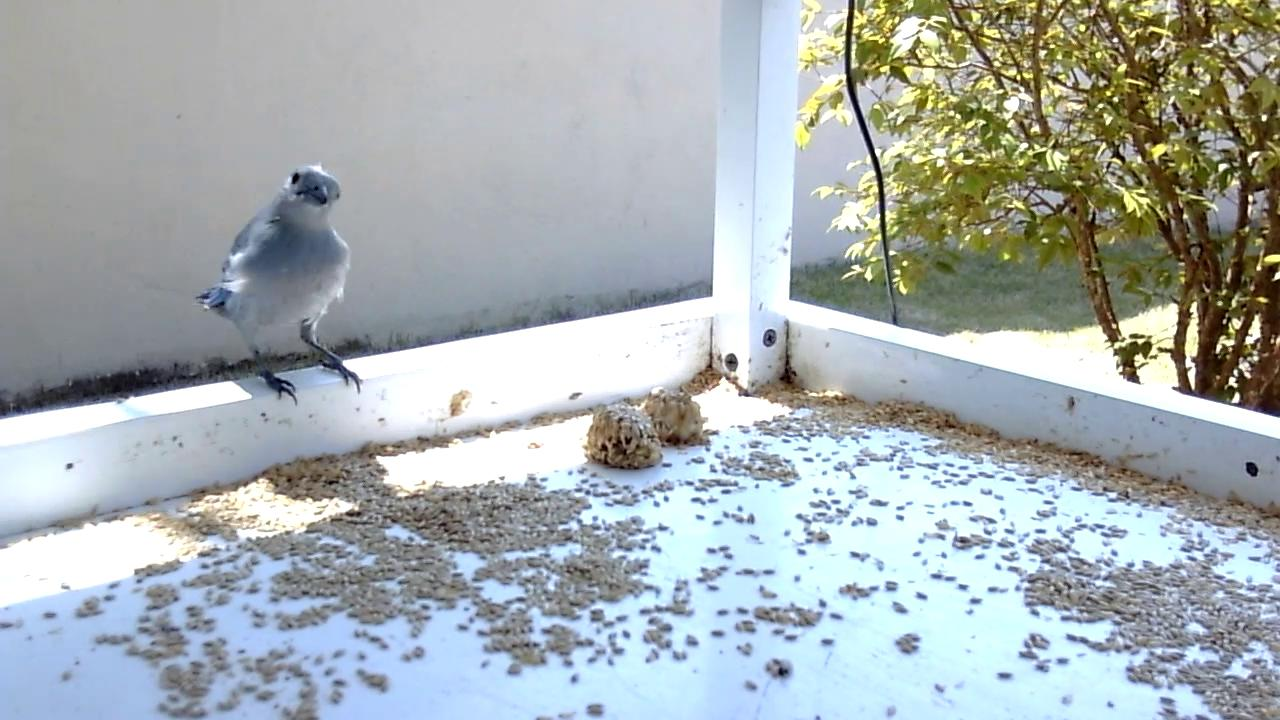sanhaco_da_amazonia: (191, 160, 366, 407)
